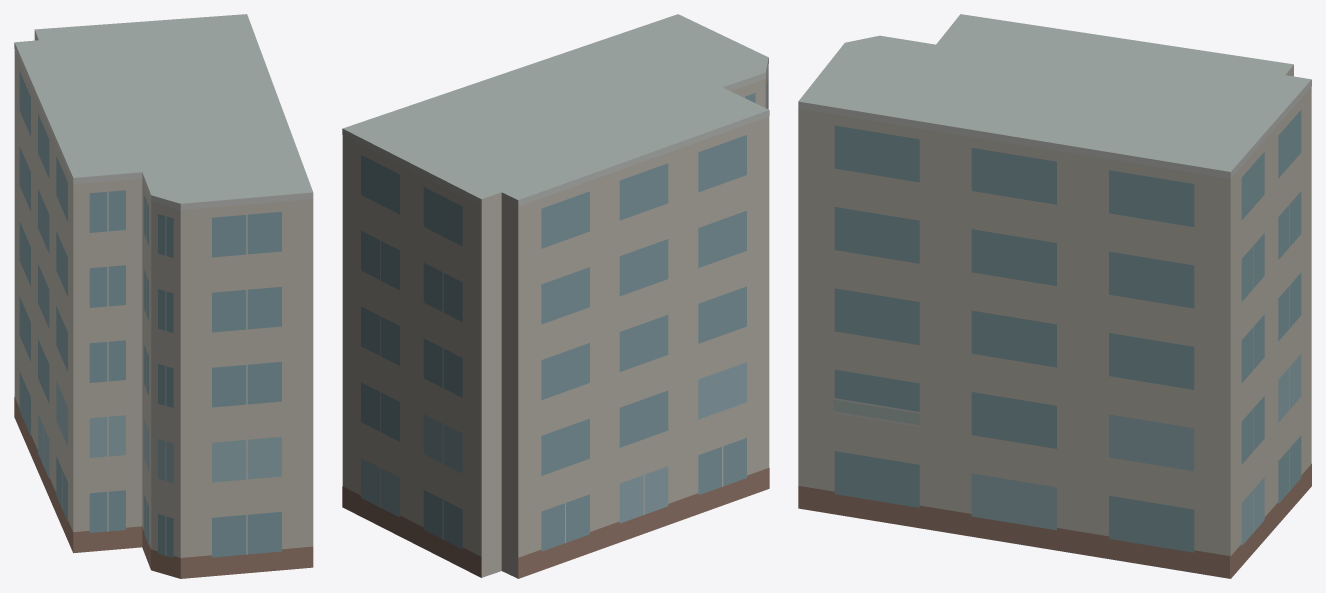
File: survey-upis-32884274.glb
3 views of the same model, side by side, from view 1: azimuth 30°, elevation 25°; view 2: azimuth 150°, elevation 25°; view 3: azimuth 270°, elevation 25° (orthographic). The views are drawn at different scales.
Visible parts, largest first — view 1: survey-upis-32884274.tmp; view 2: survey-upis-32884274.tmp; view 3: survey-upis-32884274.tmp.
Boxes of the visible parts, x1,y1,x2,y2 form: survey-upis-32884274.tmp: [14, 14, 313, 578]; survey-upis-32884274.tmp: [342, 14, 769, 578]; survey-upis-32884274.tmp: [798, 14, 1311, 578].
Size of the model in its own units: 11.87 by 14.25 by 16.31.
